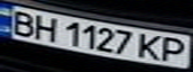1: (57, 19, 84, 47), (78, 21, 100, 50)
2: (93, 25, 115, 54)
7: (112, 27, 136, 57)
B: (3, 8, 39, 37)
H: (30, 14, 60, 43)
K: (136, 32, 166, 62)
P: (157, 35, 190, 63)
